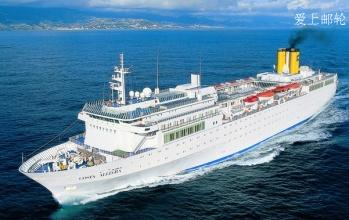youlun: (14, 39, 339, 202)
